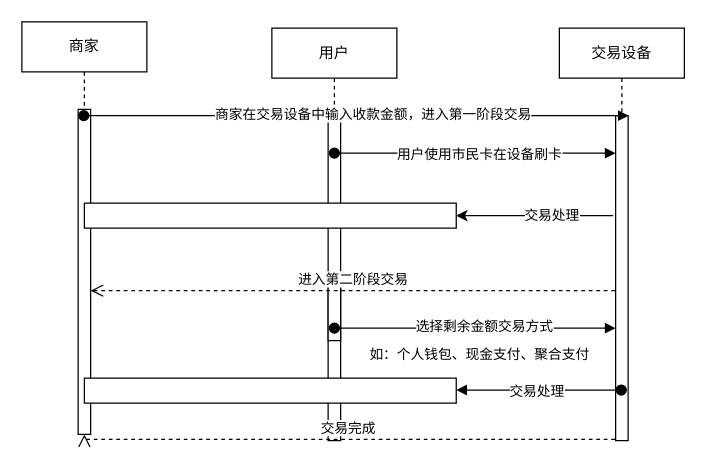
Image size: 706x474. Some labels were removed from this diagram. Here are the shapes that lost their labels. From the top down, the centre of each, then its label:
point 269,215: 展示用户使用的综合钱包金额以及需要个人支付的金额
point 269,390: 展示用户使用的综合钱包金额以及个人支付的金额
